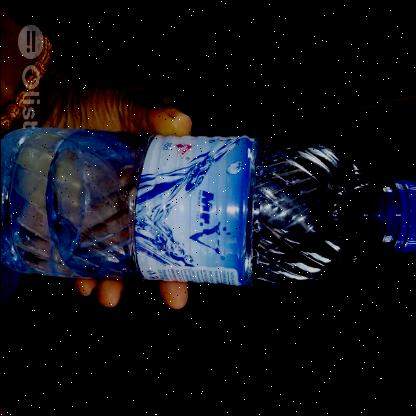Plastic Bottle: (0, 130, 416, 288)
